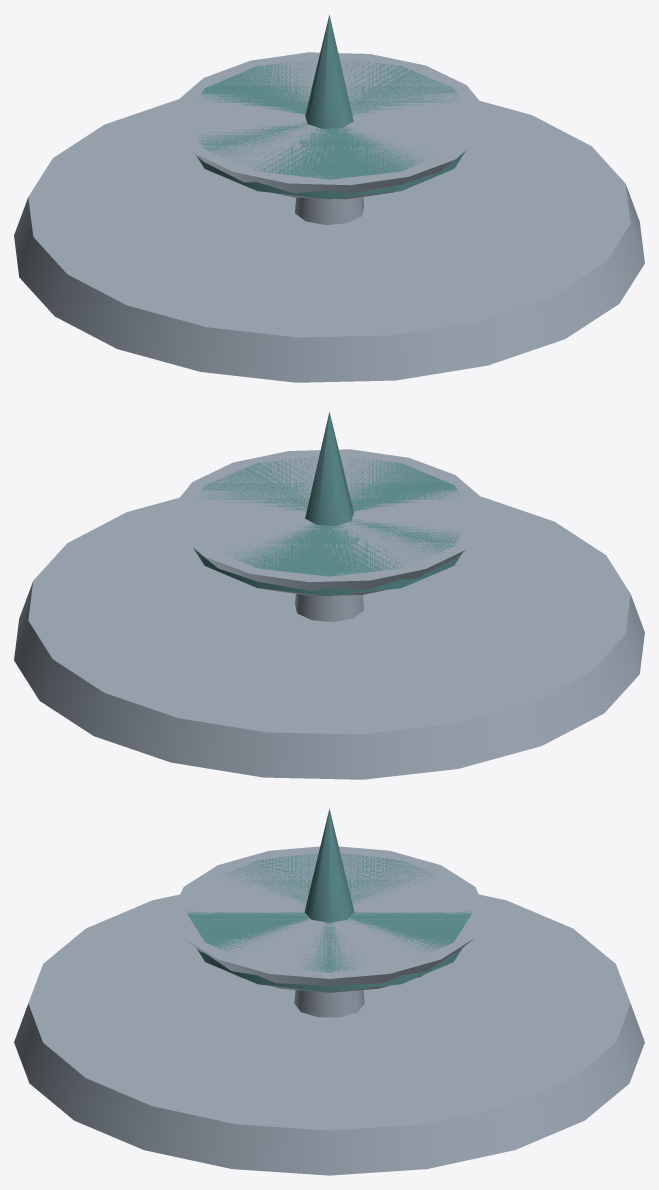
File: fountain.glb
3 views of the same model, one above another, from view 1: azimuth 30°, elevation 25°; view 2: azimuth 150°, elevation 25°; view 3: azimuth 270°, elevation 25° (orthographic).
Bounding box in the file's own units: 8.8 × 3.6 × 8.8.
